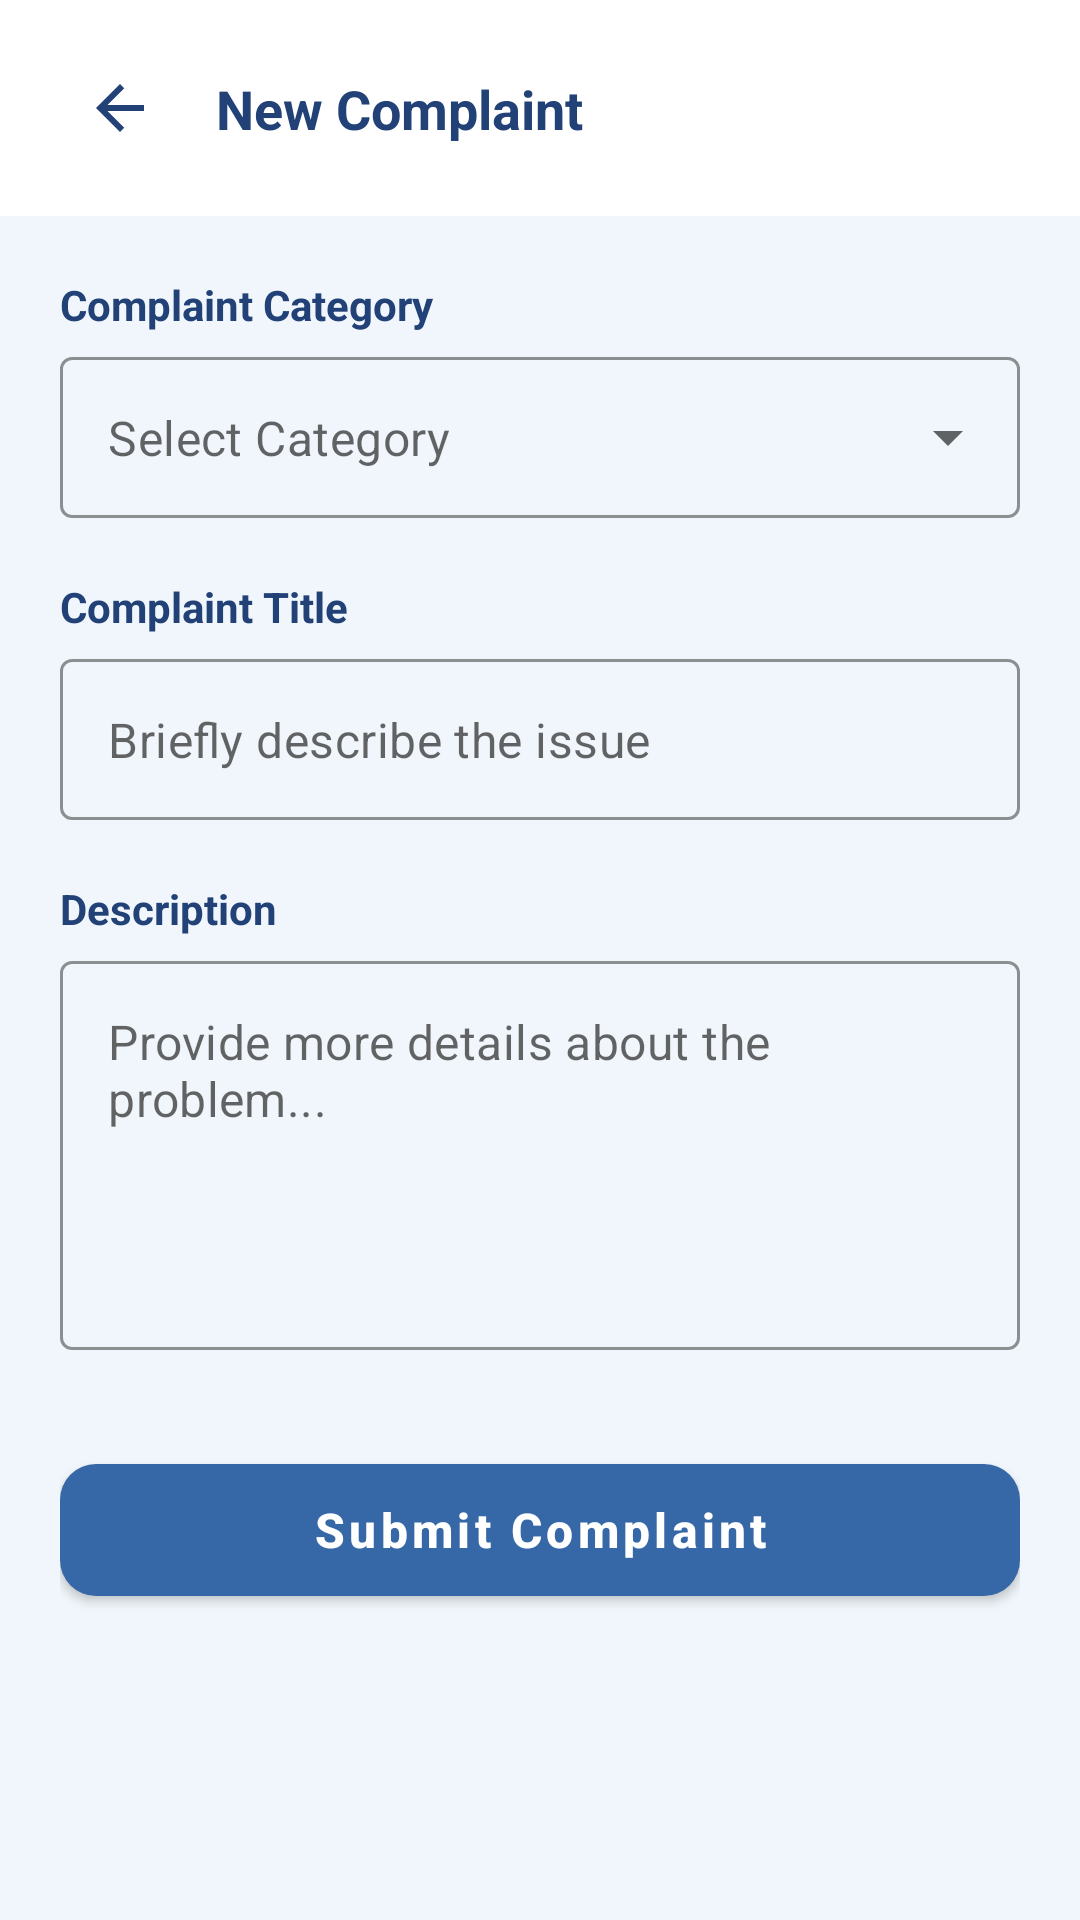

Screen size 1080w x 1920h. Icon name, then its center in pixels as [x,y]:
arrow back: [120,108]
